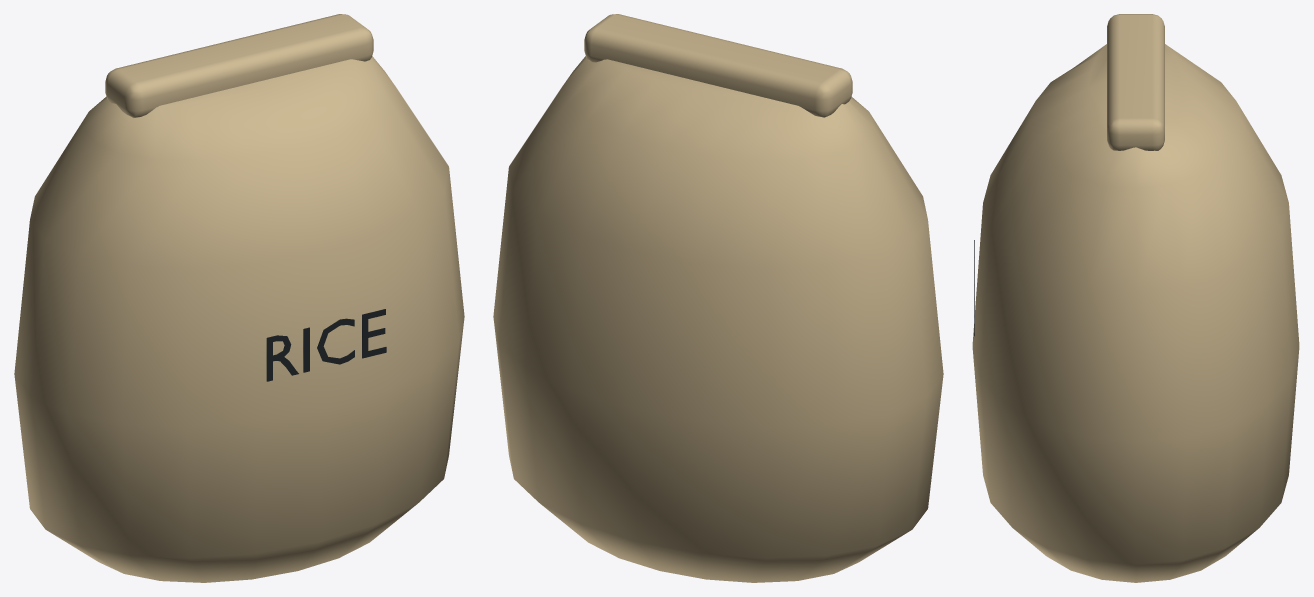
Rendered from HotelTogether-RiceSack.glb.
The picture shows the model from 3 angles, left to right: view 1: azimuth 30°, elevation 25°; view 2: azimuth 150°, elevation 25°; view 3: azimuth 270°, elevation 25°; orthographic projection. The views are drawn at different scales.
Parts seen in each view (by area): view 1: Sack_Fabric, Sack_FoldedSeam, Sack_Label; view 2: Sack_Fabric, Sack_FoldedSeam; view 3: Sack_Fabric, Sack_FoldedSeam.
Boxes of the visible parts, x1,y1,x2,y2 form: Sack_Fabric: (14,56,464,582); Sack_FoldedSeam: (105,14,373,117); Sack_Label: (266,309,386,381); Sack_Fabric: (493,56,943,582); Sack_FoldedSeam: (584,14,852,117); Sack_Fabric: (972,44,1299,582); Sack_FoldedSeam: (1107,14,1164,150).
Size of the model in its own units: 0.43 by 0.4725 by 0.31.
